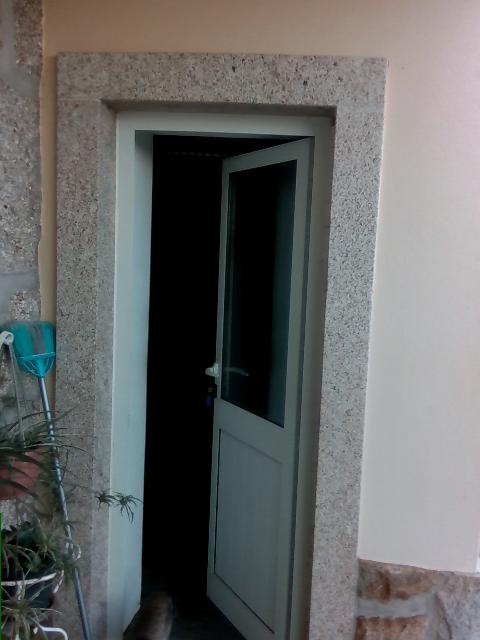semi_door: (104, 105, 332, 639)
